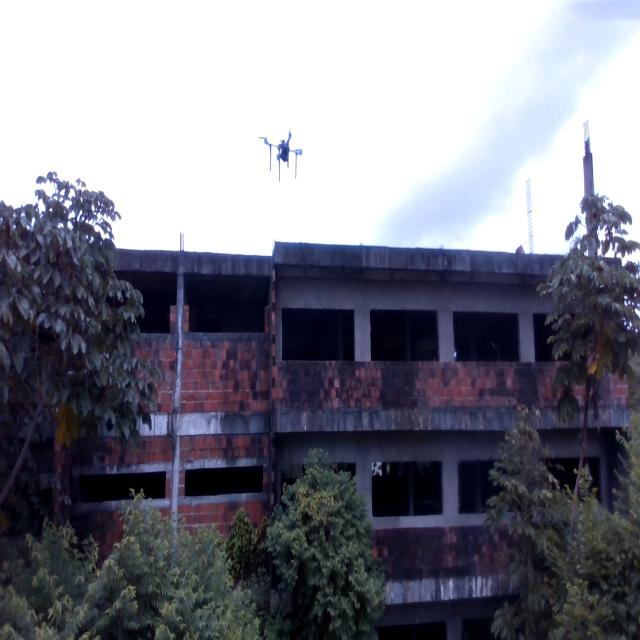-uav-: (255, 117, 304, 187)
